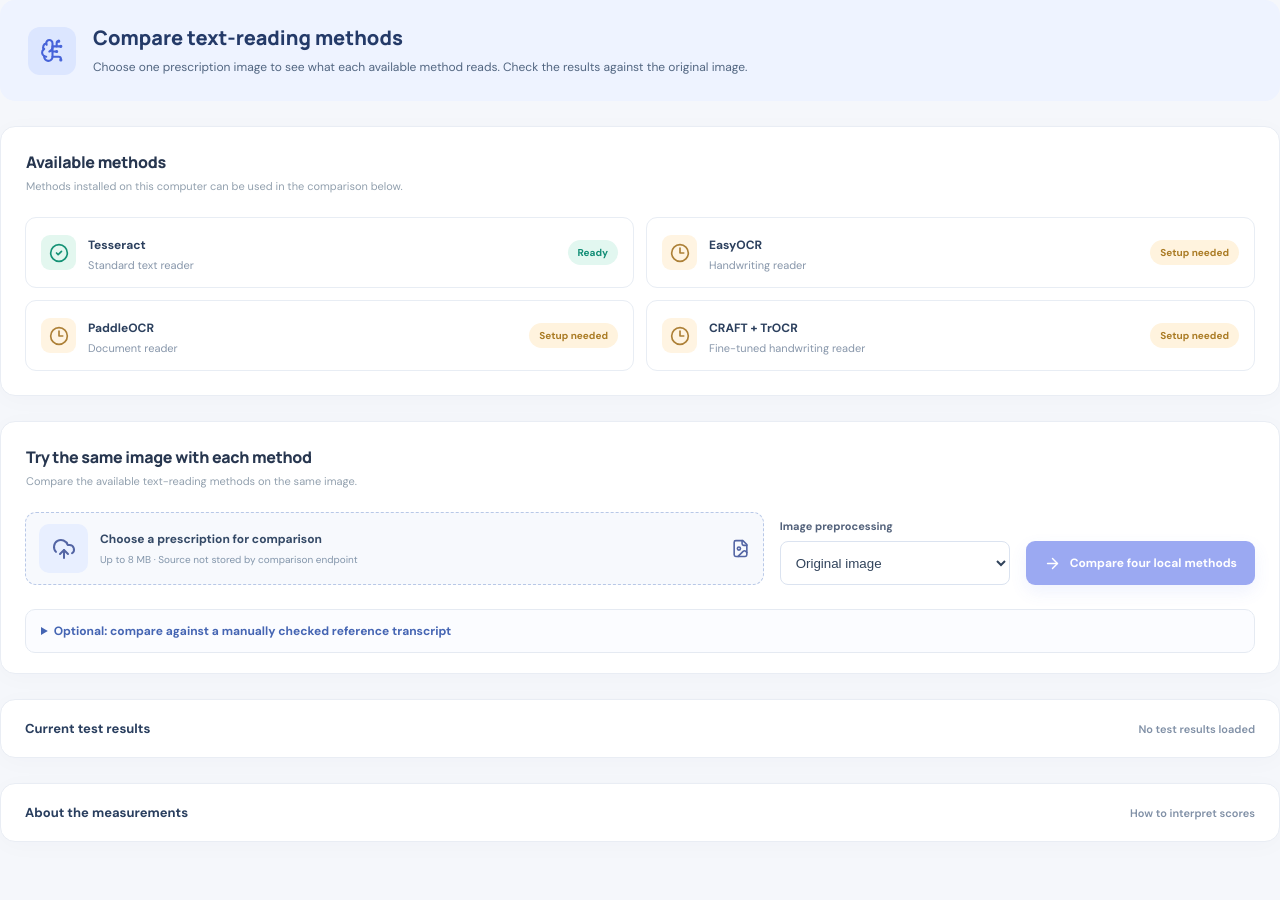
Scenario: model comparison page › shows availability and keeps optional measurements separate
This screenshot has width=1280, height=900.
expect the heading "Compare text-reading methods" is shown: met, box [93,24,403,51]
expect the text "Standard text reader" is shown: met, box [88,258,194,272]
Click the heading "Current test results No test results loaded": (88, 729) [25,720,1255,737]
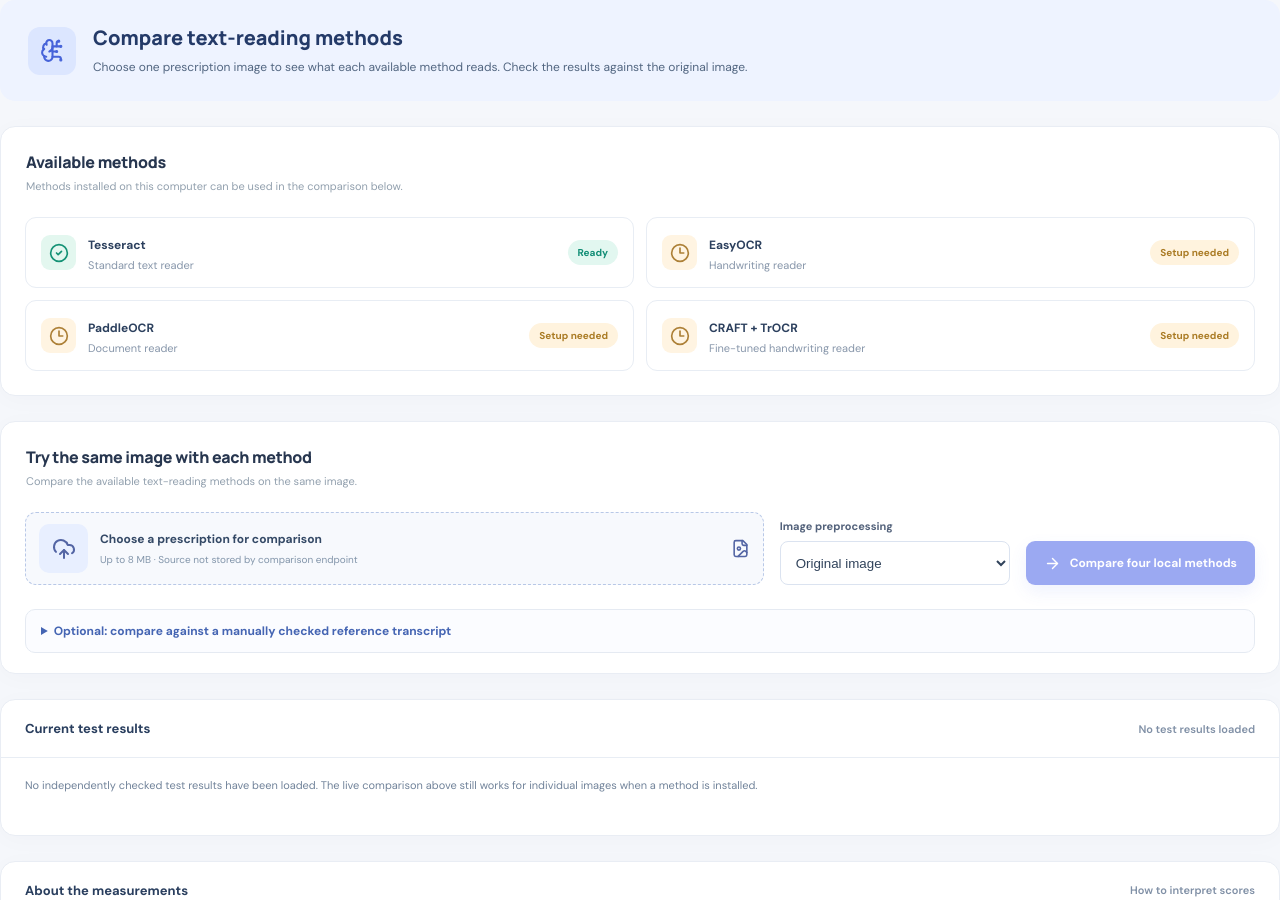
expect the text "No independently checked test results have been loaded" is shown: met, box [25,778,758,792]
